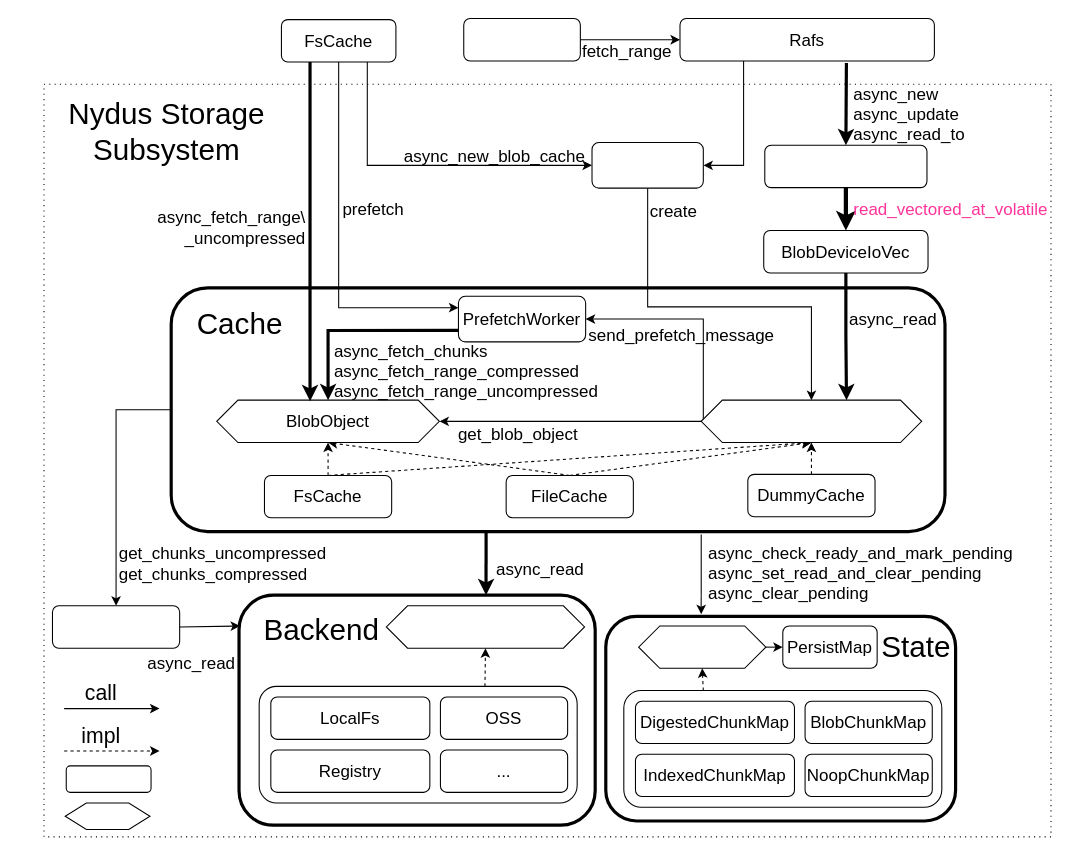
The diagram is 1081 pixels wide and 855 high, and some of its shapes have lost their labels. Each missing label, with the box of its shape:
BlobCache: (700, 399, 922, 443)
BlobDevice: (764, 144, 927, 188)
BlobFactory: (591, 142, 703, 188)
BlobFs: (463, 17, 580, 61)
BlobMetaInfo: (51, 605, 180, 648)
BlobReader: (385, 605, 585, 648)
ChunkMap: (638, 625, 766, 668)
Struct: (65, 765, 151, 792)
Trait: (64, 802, 150, 829)
